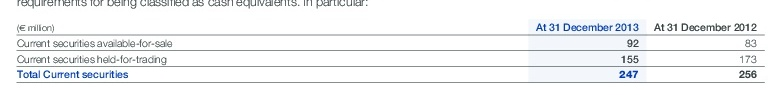table: (0, 0, 780, 95)
